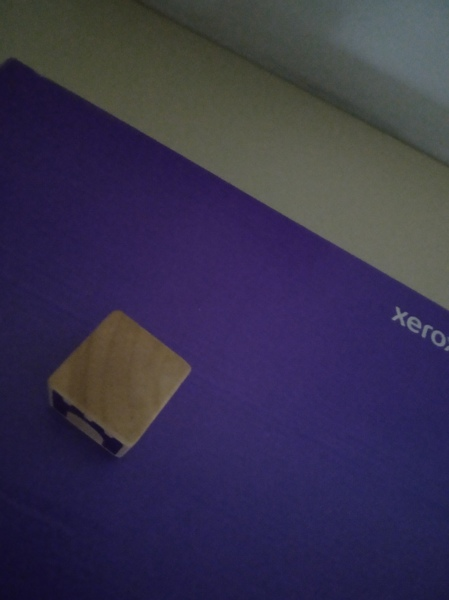violet: (44, 307, 193, 454)
